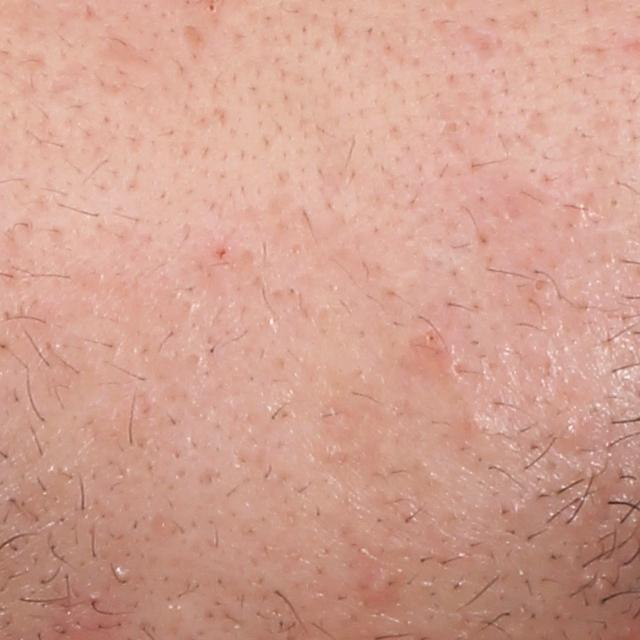atrophic_scar: (452, 21, 512, 67)
comedo: (554, 419, 584, 447), (530, 274, 549, 297), (422, 330, 441, 346)
